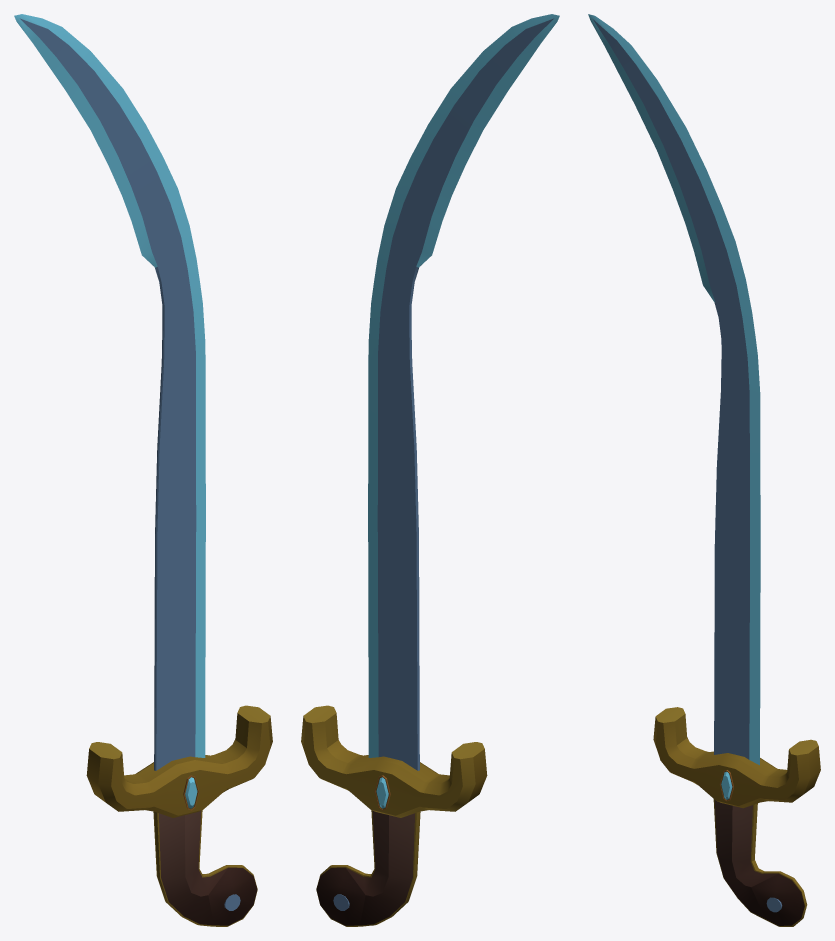
Rendered from SM_Sword10_Kilij_6FantasyBlue.fbx.
3 views of the same model, side by side, from view 1: azimuth 30°, elevation 25°; view 2: azimuth 150°, elevation 25°; view 3: azimuth 330°, elevation 25° (orthographic). The views are drawn at different scales.
Parts seen in each view (by area): view 1: Cube.485, Cube.486, Cylinder.611; view 2: Cube.485, Cube.486, Cylinder.611; view 3: Cube.485, Cube.486, Cylinder.611.
Part boxes in pixels (bbox=[...]): Cube.485: bbox=[14, 14, 205, 770]; Cube.486: bbox=[86, 705, 272, 817]; Cylinder.611: bbox=[153, 810, 257, 926]; Cube.485: bbox=[368, 14, 559, 770]; Cube.486: bbox=[301, 705, 487, 817]; Cylinder.611: bbox=[316, 810, 420, 926]; Cube.485: bbox=[588, 14, 760, 765]; Cube.486: bbox=[653, 707, 820, 808]; Cylinder.611: bbox=[713, 799, 807, 926].
Bounding box in the file's own units: 0.2004 × 0.7285 × 0.0349.
